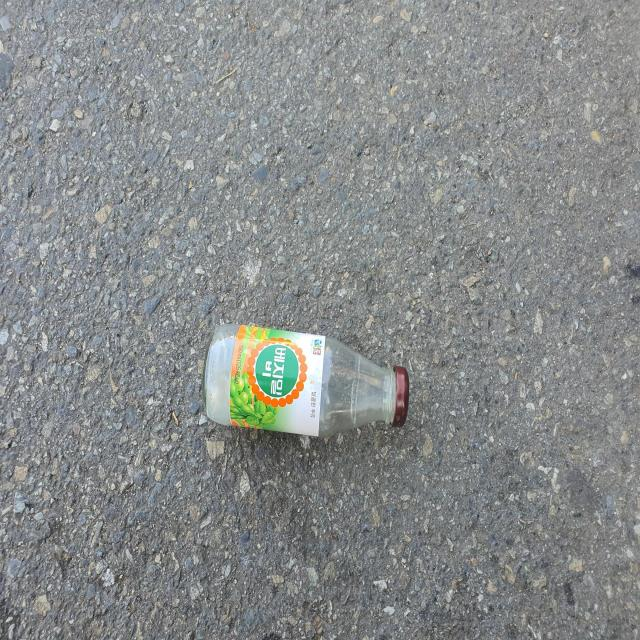glass: (203, 324, 409, 437)
